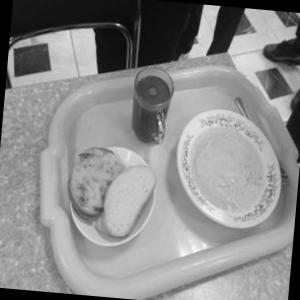bread: (88, 158, 169, 246)
cheese_sandwich: (62, 138, 120, 238)
coffee: (117, 57, 184, 158)
porridge: (184, 116, 283, 228)
